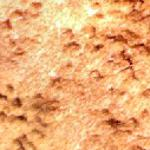alive: (5, 4, 146, 145)
